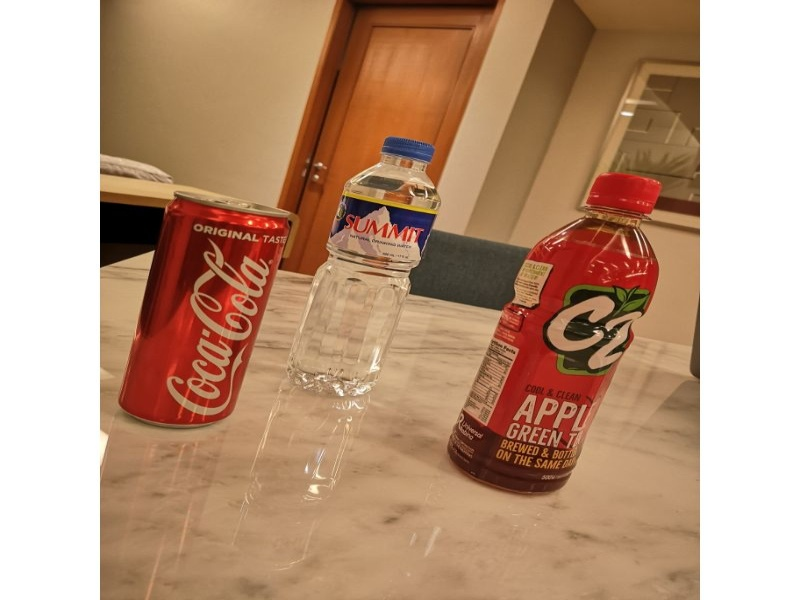PET #1: (449, 166, 664, 501), (287, 132, 442, 403)
